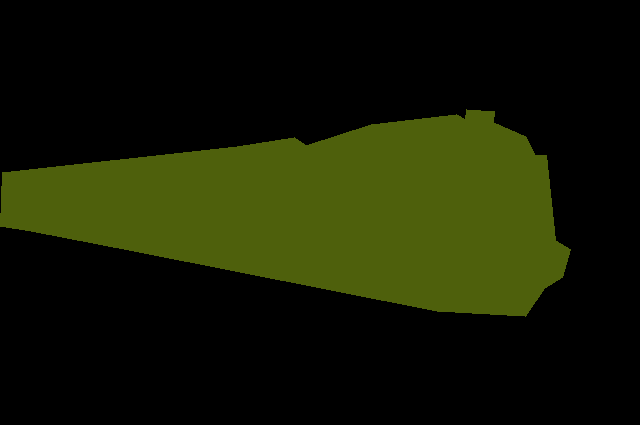Train: (0, 109, 570, 317)
